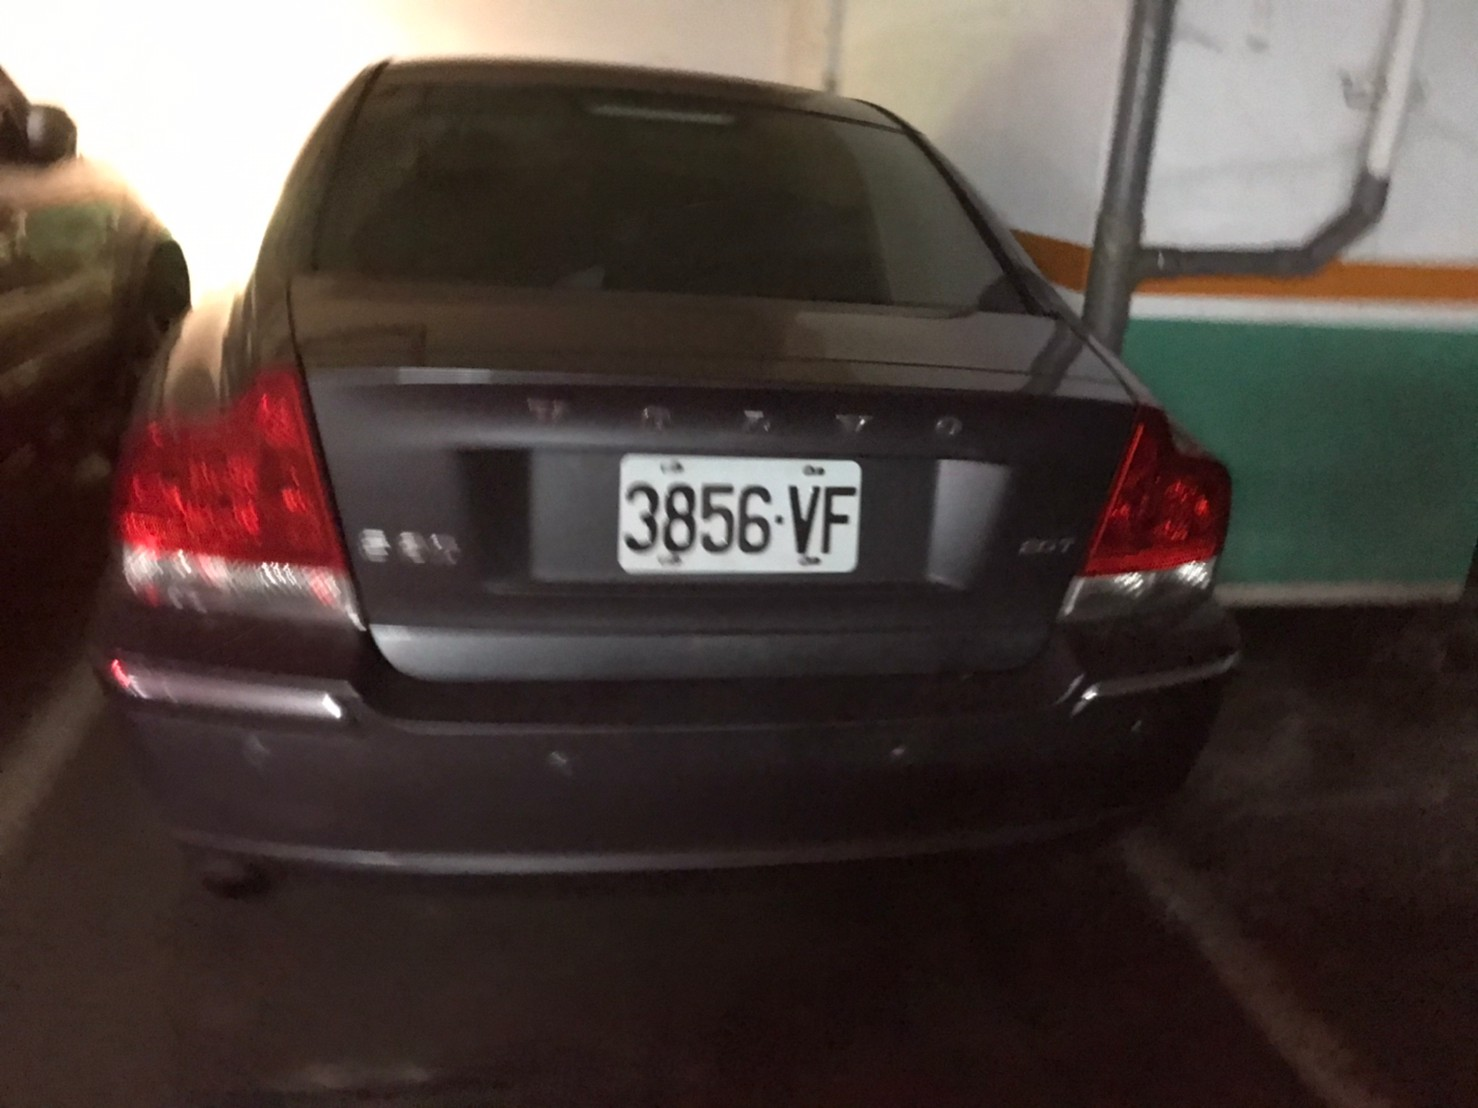LP: (620, 449, 861, 577)
